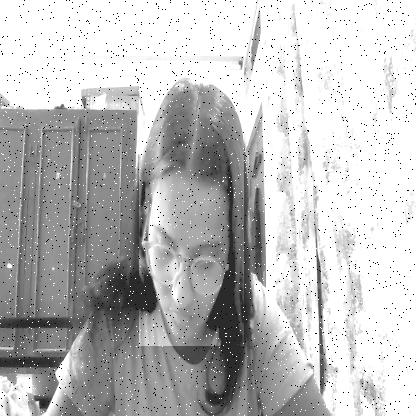Distracted: (139, 70, 244, 346)
